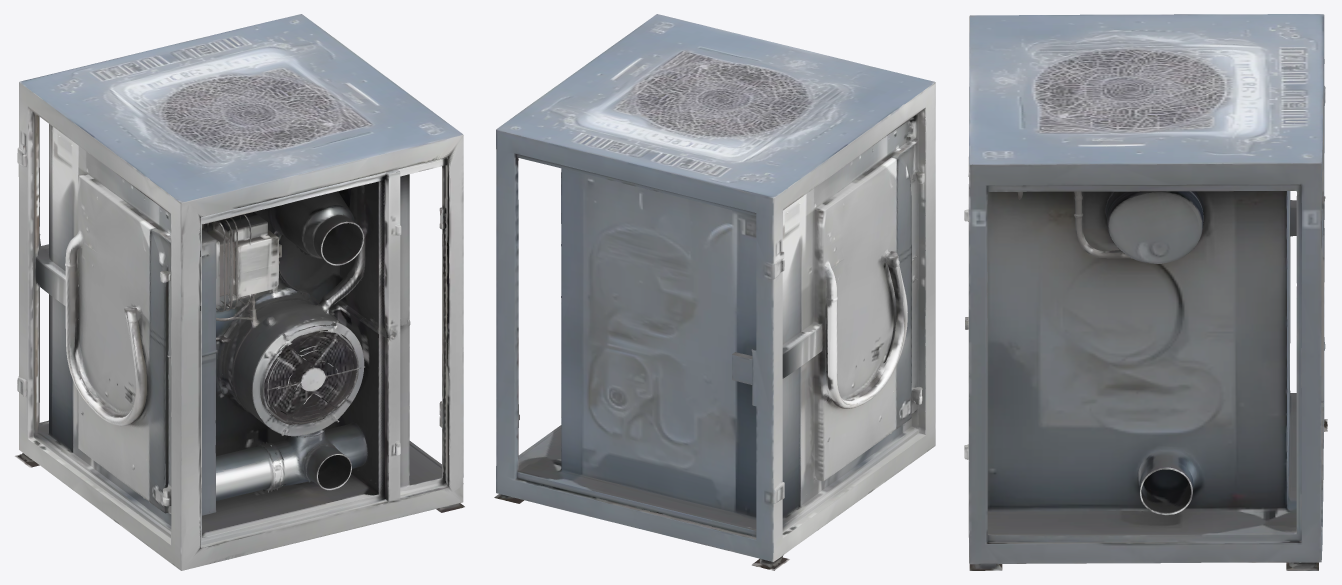
The model's file is modular_ahu_shaded.glb.
The picture shows the model from 3 angles, left to right: view 1: azimuth 30°, elevation 25°; view 2: azimuth 150°, elevation 25°; view 3: azimuth 270°, elevation 25°; orthographic projection. The views are drawn at different scales.
Parts seen in each view (by area): view 1: model; view 2: model; view 3: model.
Part boxes in pixels (bbox=[...]): model: bbox=[15, 14, 464, 570]; model: bbox=[494, 14, 935, 570]; model: bbox=[964, 14, 1327, 570].
Size of the model in its own units: 1.56 by 1.9 by 1.54.
Materials: 1 (1 with a texture image).
